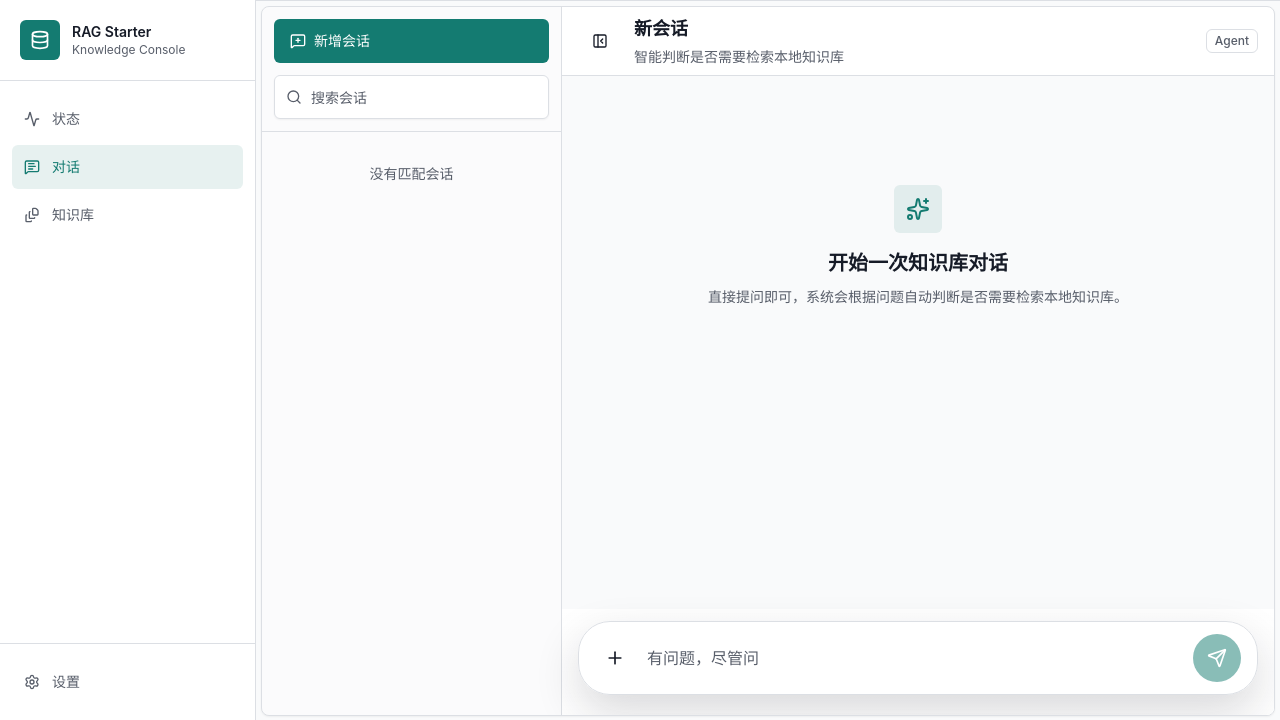
Test: App › renders markdown answer in chat route
The width and height of the screenshot is (1280, 720).
Type "测试 markdown" into the text box named "输入消息". click: (914, 658)
box: 647,638 -> 1181,678
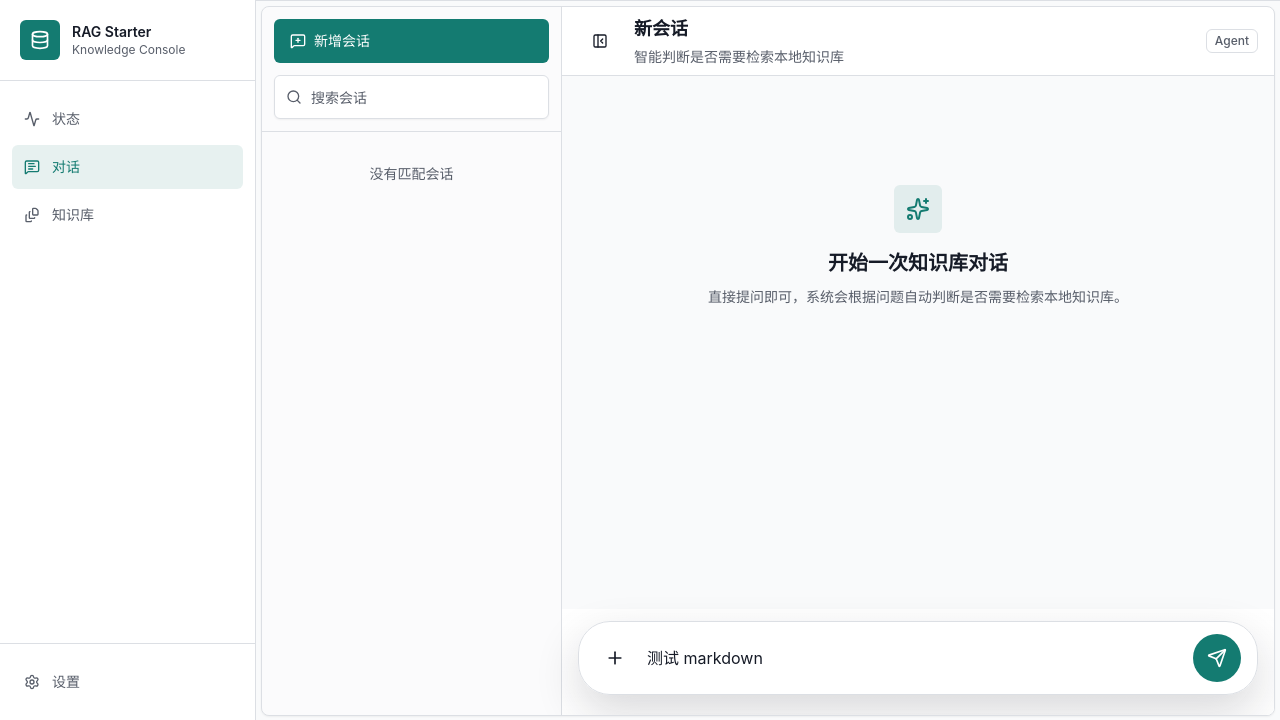
Click the button named "发送消息". click: (1217, 658)
box: 1193,634 -> 1241,682
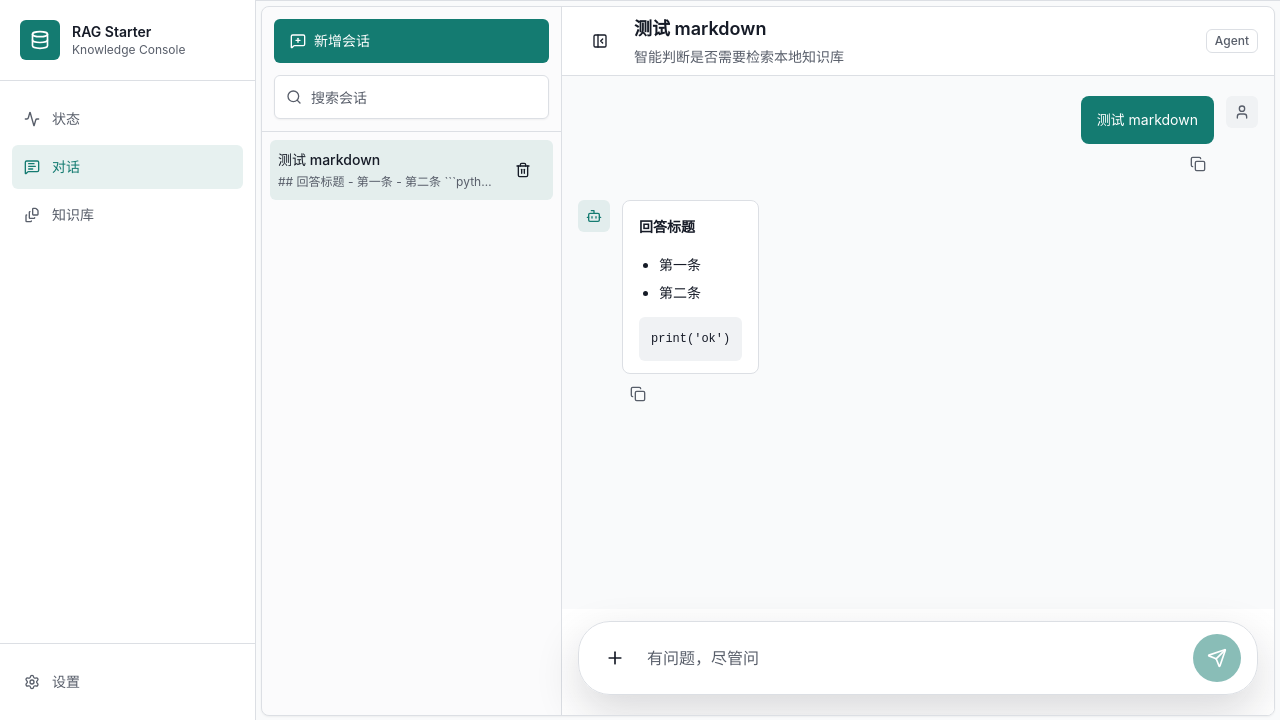
expect the heading "回答标题" is shown: met, box 639,218 -> 695,235
expect the text "第一条" is shown: met, box 659,256 -> 701,273
expect the text "print('ok')" is shown: met, box 651,332 -> 730,346
